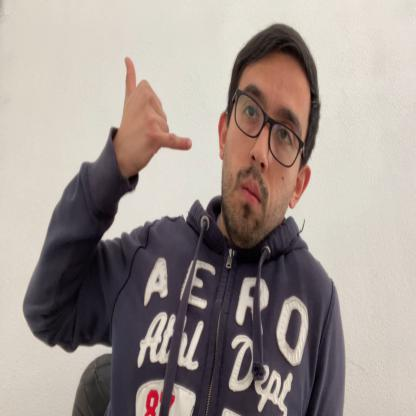Y: (120, 56, 192, 172)
